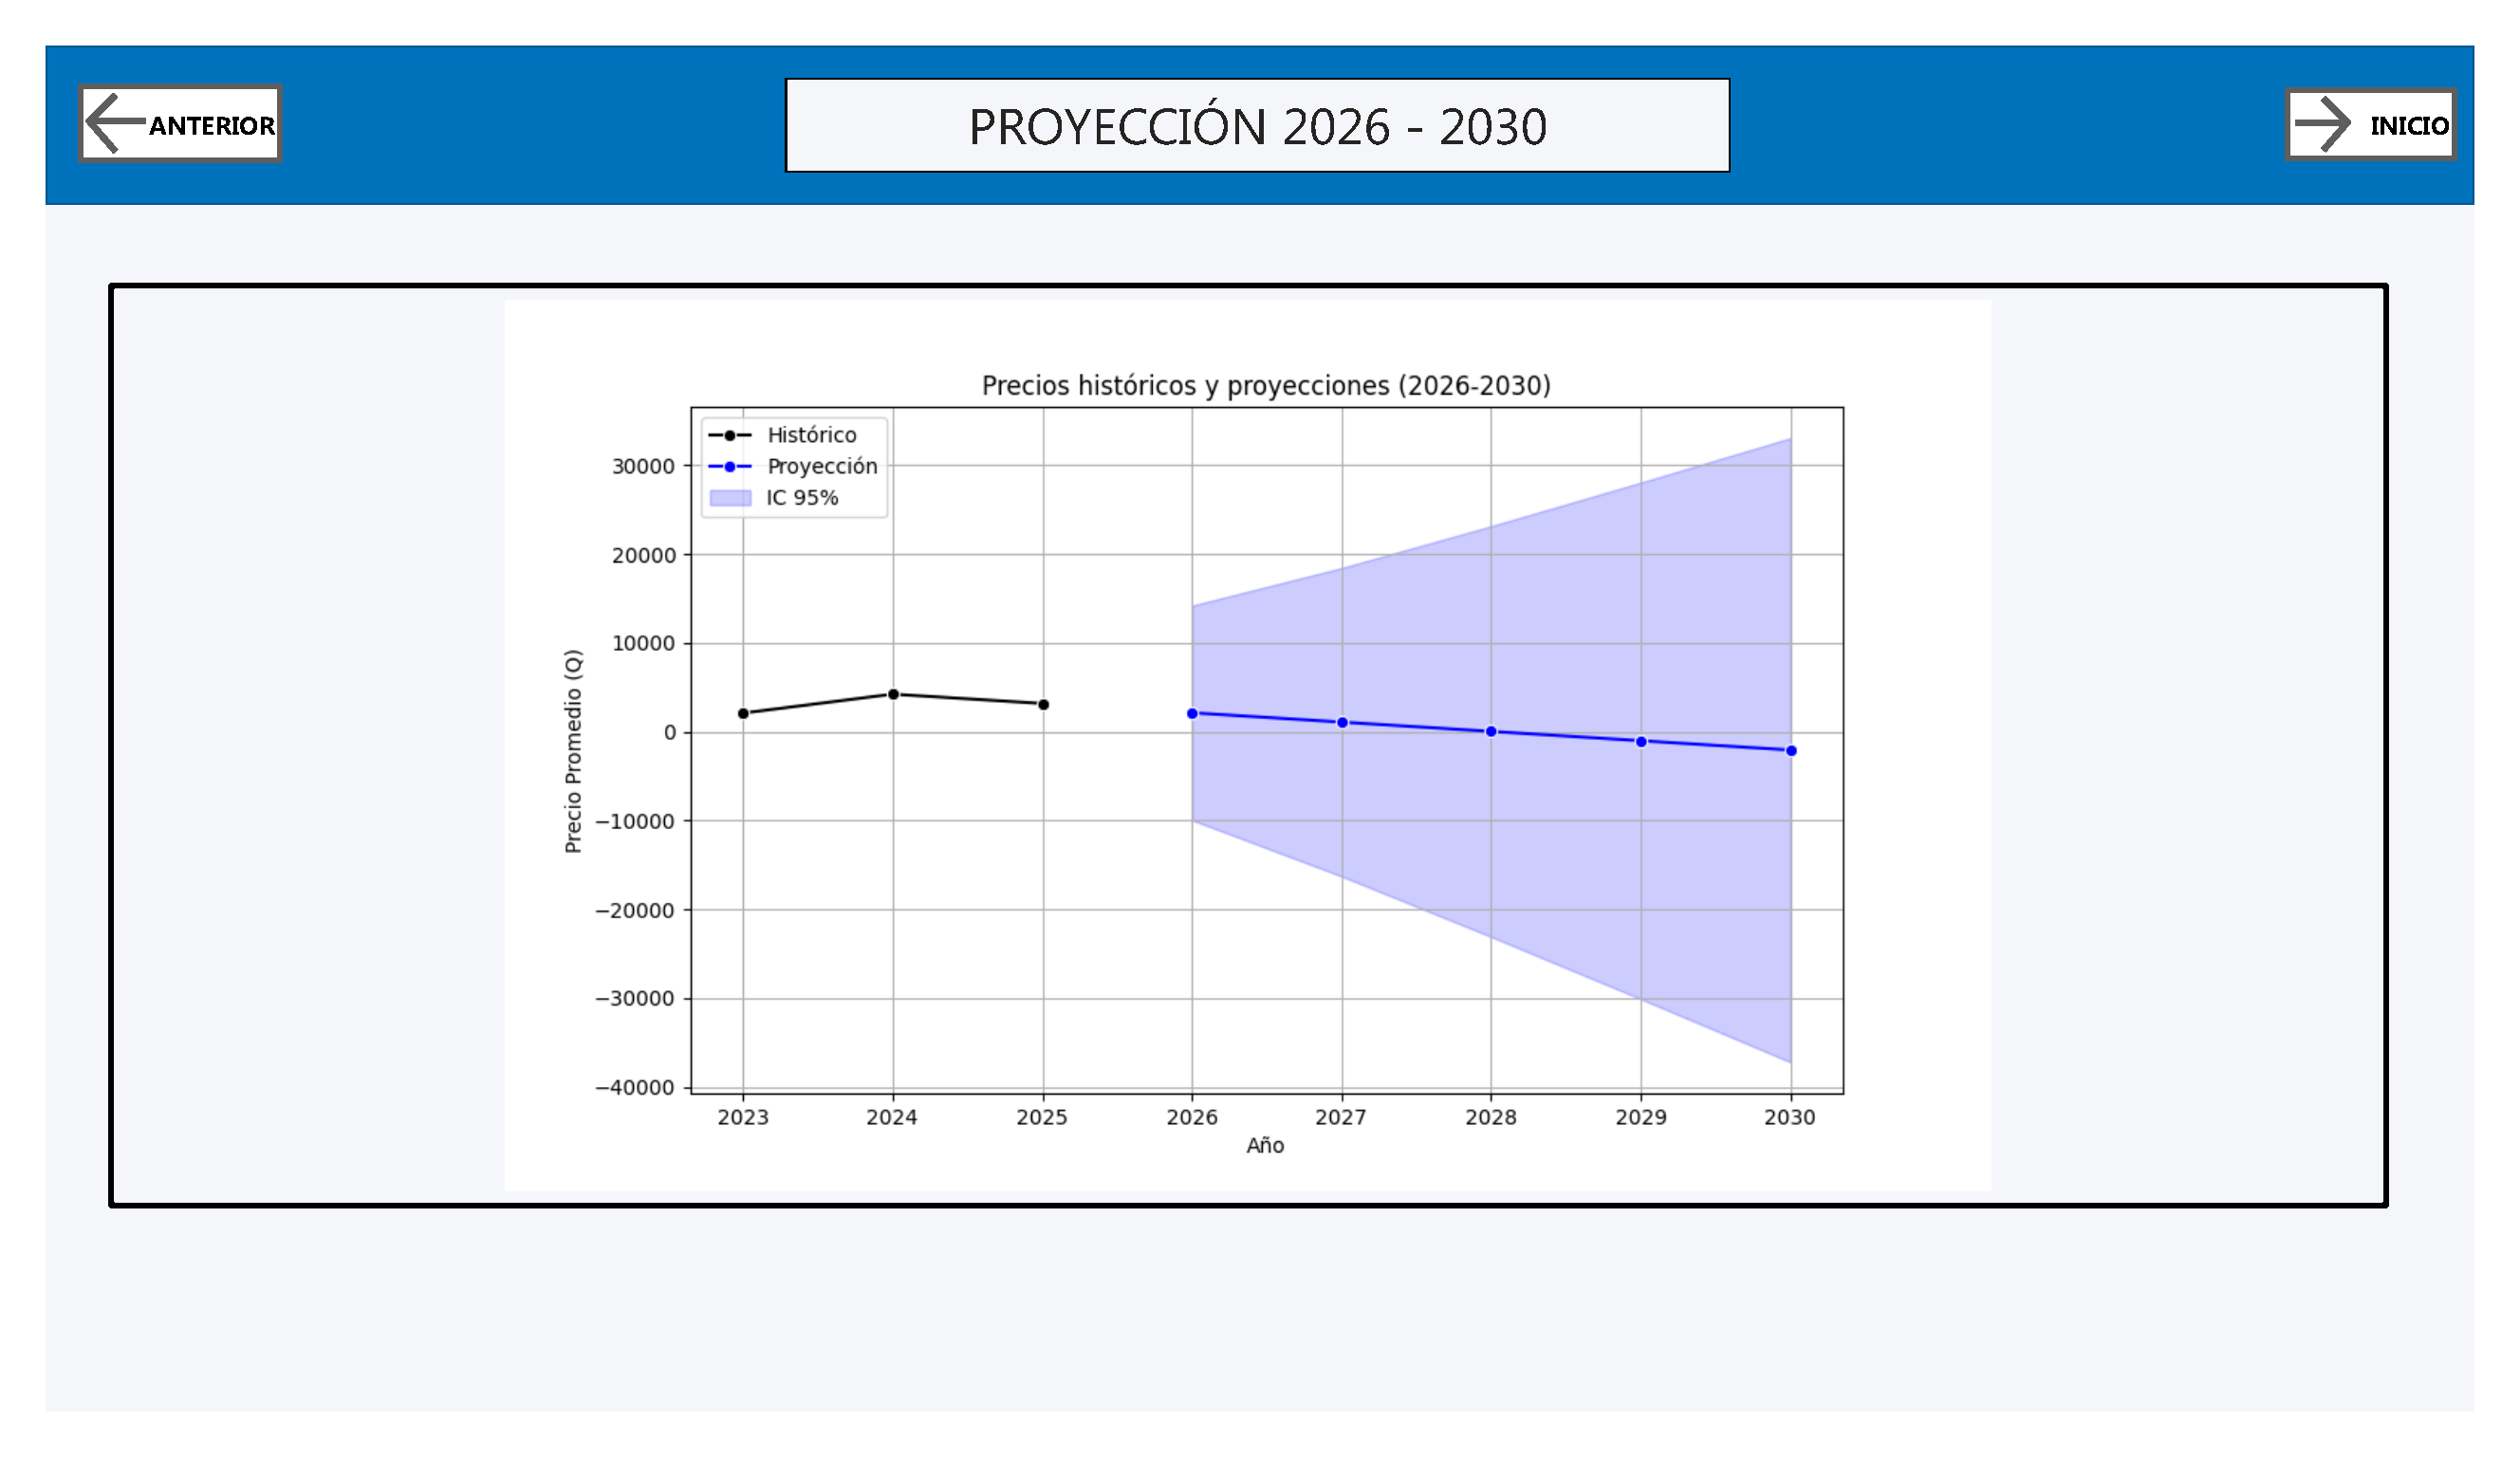

The page's visual inventory and layout, read from the dashboard file:
{"tool":"powerbi","page":{"name":"PROYECCIÓN","canvas":[1280,720],"ordinal":11},"visuals":[{"type":"pythonVisual","fields":{"Values":["Param_PyVisual.ServidorSQL","Param_PyVisual.BaseDatosSQL"]},"box":[32.7,125.5,1201.8,487.3],"z":0},{"type":"shape","box":[0,0,1280,83.8],"z":1000},{"type":"textbox","box":[390,16.7,498.3,50],"z":2000},{"type":"actionButton","box":[1180.1,22,90.4,39.5],"z":4000},{"type":"actionButton","title":"Atras","box":[16.7,20.2,108,42.1],"z":5000}]}

Visuals, with their boxes in screenshot pixels (x1, y1, x2, y2), scaled from the page's 1280x720 canvas onto the 2520x1457 screenshot:
pythonVisual - Param_PyVisual.ServidorSQL x Param_PyVisual.BaseDatosSQL: [65,254,2431,1240]
shape: [0,0,2519,170]
textbox: [768,34,1749,135]
actionButton: [2324,45,2501,124]
"Atras" actionButton: [33,41,246,126]
